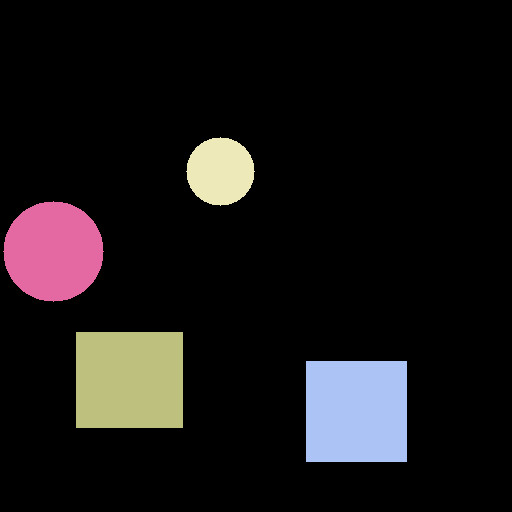circle: (3, 201, 103, 301), (186, 137, 254, 205)
rectangle: (76, 332, 182, 427)
square: (306, 361, 406, 461)
